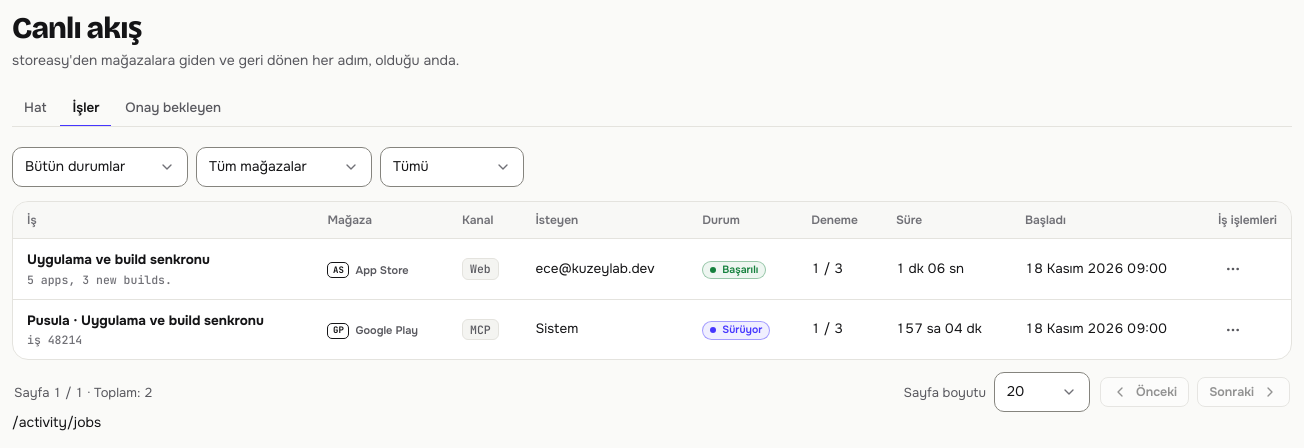
JobsPage › does not offer cancel for a finished job, nor to a viewer
The image size is (1304, 448).
Click the button named "İş işlemleri" in the row of "Pusula · Uygulama ve build senkronu".
click(1233, 330)  # box [1218,314,1248,344]
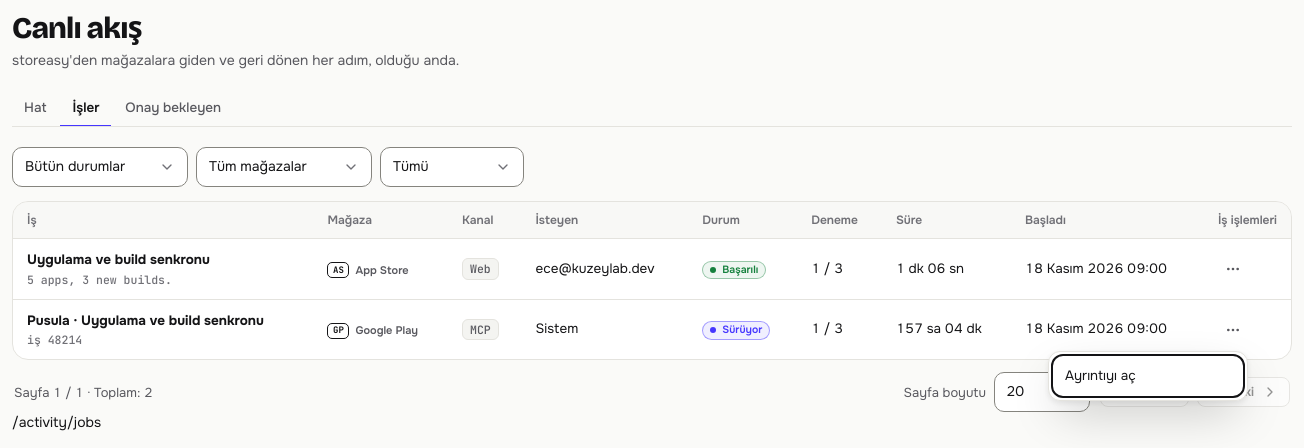
Result: the menu item "Ayrıntıyı aç" is shown at [1055,358,1241,394]
